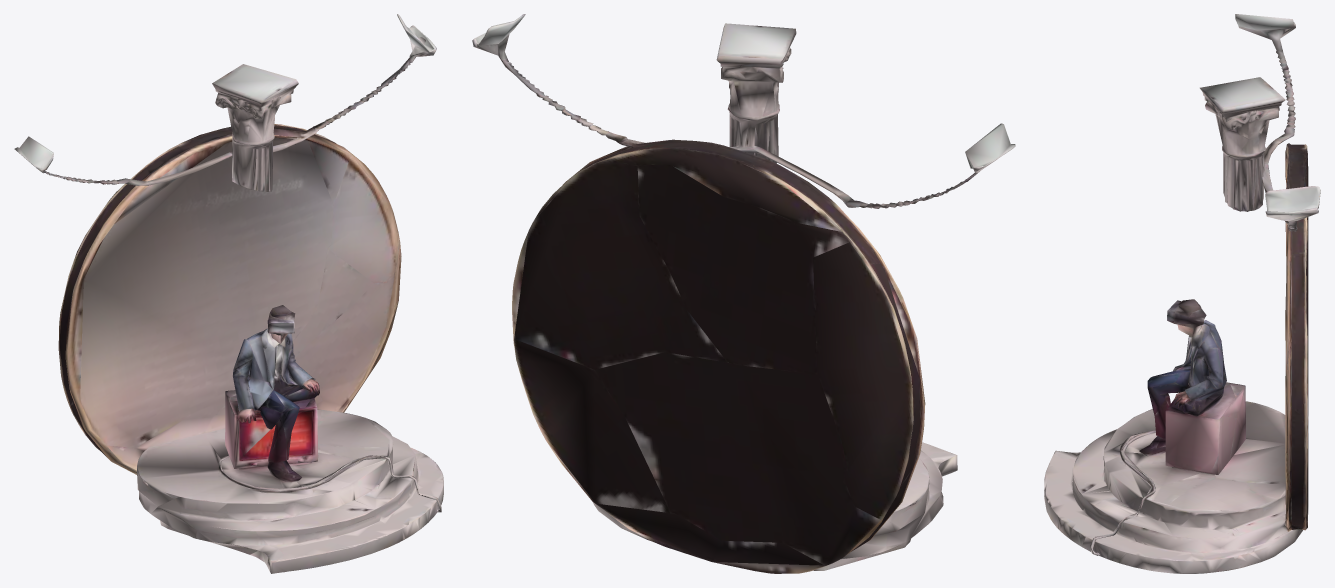
The picture shows the model from 3 angles, left to right: view 1: azimuth 30°, elevation 25°; view 2: azimuth 150°, elevation 25°; view 3: azimuth 270°, elevation 25°; orthographic projection. The views are drawn at different scales.
Visible parts, largest first — view 1: node_0; view 2: node_0; view 3: node_0.
Part boxes in pixels (x1=…): node_0: x1=14, y1=14, x2=443, y2=573; node_0: x1=472, y1=14, x2=1015, y2=573; node_0: x1=1044, y1=14, x2=1320, y2=573.
Size of the model in its own units: 0.8431 by 0.7949 by 0.4834.
Materials: 1 (1 with a texture image).
